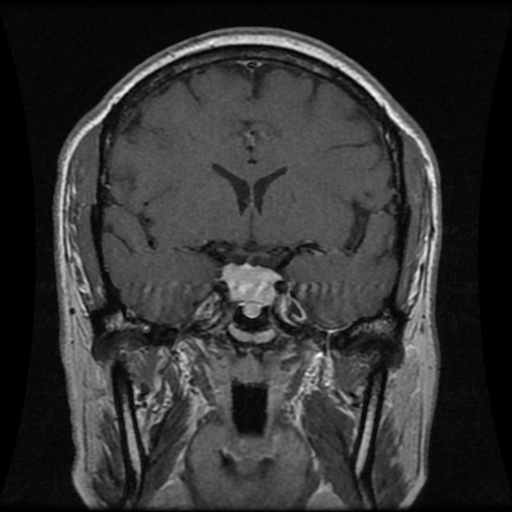pituitary: (221, 263, 279, 319)
